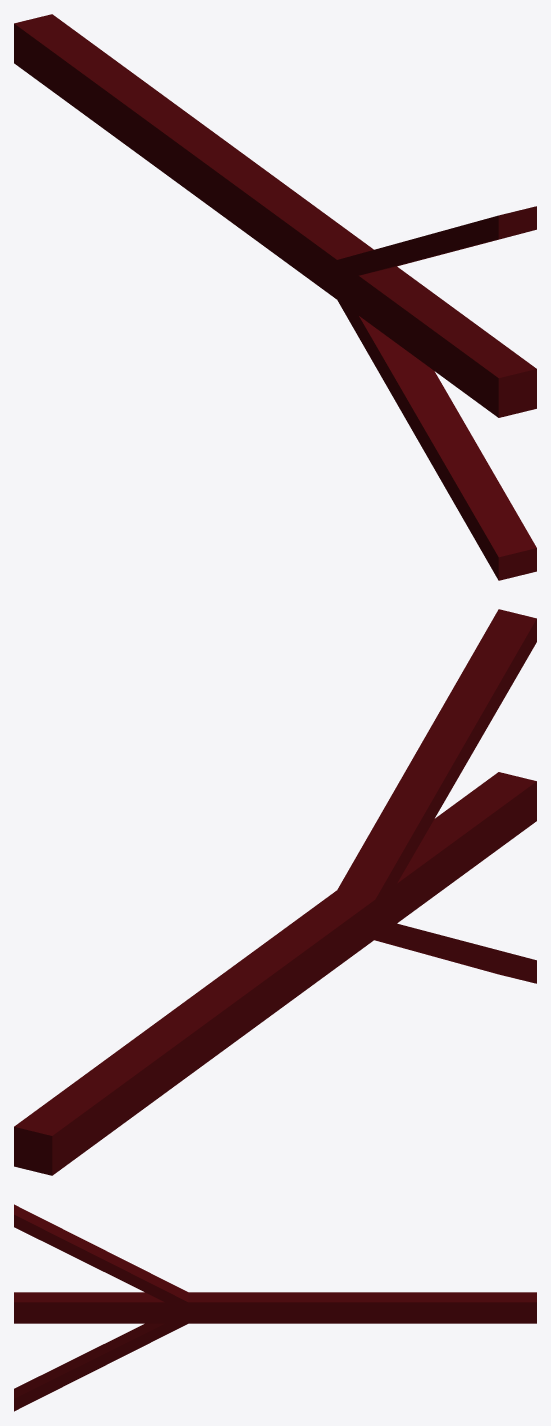
File: column.dae
3 renders of one model, top to bottom at view 1: azimuth 30°, elevation 25°; view 2: azimuth 150°, elevation 25°; view 3: azimuth 270°, elevation 25°, orthographic. The views are drawn at different scales.
Parts seen in each view (by area): view 1: coords_ME_ID3_MA_material_28; view 2: coords_ME_ID3_MA_material_28; view 3: coords_ME_ID3_MA_material_28.
Boxes of the visible parts, x1,y1,x2,y2 form: coords_ME_ID3_MA_material_28: [14, 14, 536, 580]; coords_ME_ID3_MA_material_28: [14, 609, 536, 1175]; coords_ME_ID3_MA_material_28: [14, 1204, 536, 1411].
Size of the model in its own units: 1.54 by 14.05 by 33.77.
